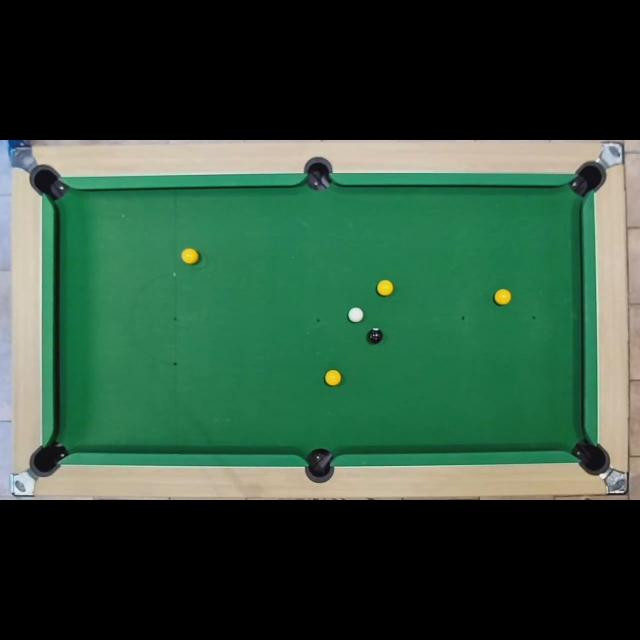Ball: (494, 289, 512, 305), (376, 280, 394, 296), (325, 370, 341, 386), (181, 248, 197, 264), (348, 308, 364, 322), (368, 328, 382, 342)
